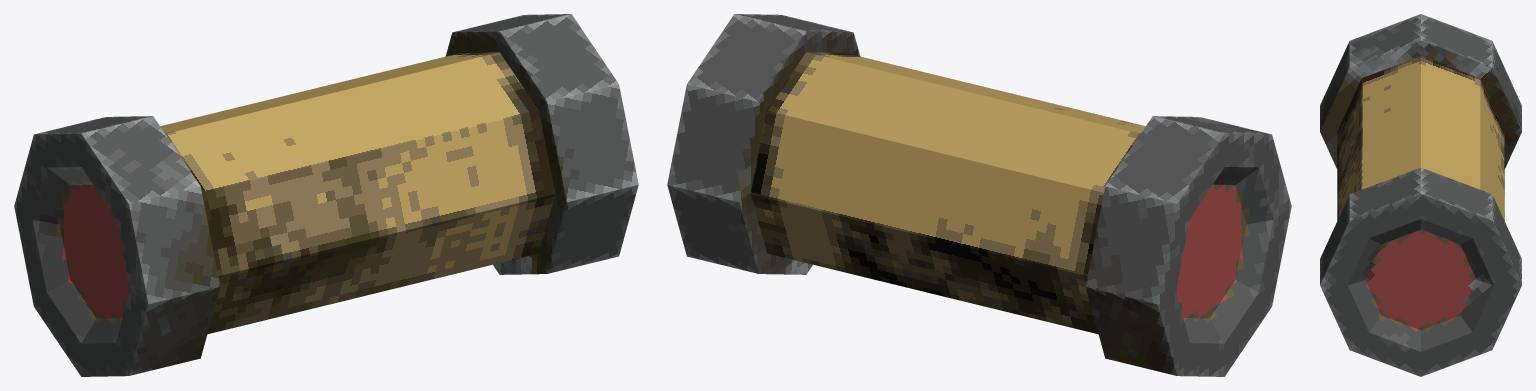
The model's file is clutter_4.glb.
3 renders of one model, left to right at view 1: azimuth 30°, elevation 25°; view 2: azimuth 150°, elevation 25°; view 3: azimuth 270°, elevation 25°, orthographic. The views are drawn at different scales.
Parts seen in each view (by area): view 1: clutter-coil; view 2: clutter-coil; view 3: clutter-coil.
Boxes of the visible parts, x1,y1,x2,y2 form: clutter-coil: (14, 14, 638, 376); clutter-coil: (667, 14, 1291, 376); clutter-coil: (1320, 14, 1521, 376).
Size of the model in its own units: 1.49 by 0.7083 by 0.7083.
1 material, 1 textured.
